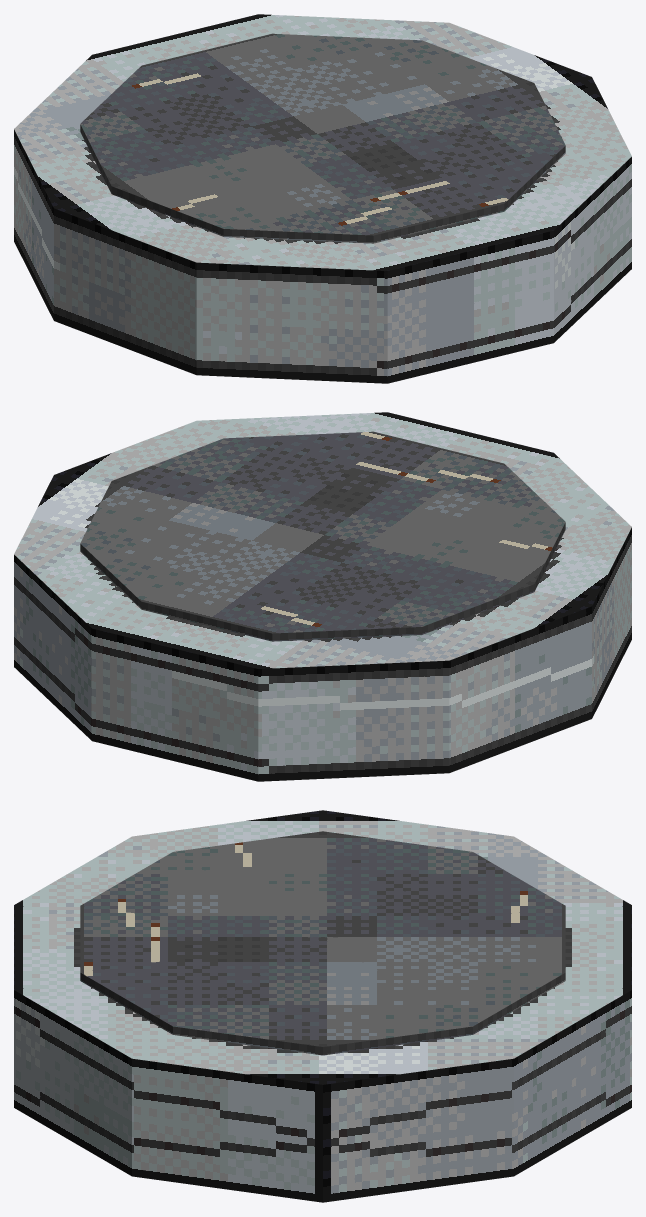
File: SM_Ashtray_01.glb
The picture shows the model from 3 angles, top to bottom: view 1: azimuth 30°, elevation 25°; view 2: azimuth 150°, elevation 25°; view 3: azimuth 270°, elevation 25°; orthographic projection. The views are drawn at different scales.
Visible parts, largest first — view 1: SM_Ashtray_01; view 2: SM_Ashtray_01; view 3: SM_Ashtray_01.
Boxes of the visible parts, x1=… form: SM_Ashtray_01: x1=14, y1=14, x2=631, y2=383; SM_Ashtray_01: x1=14, y1=412, x2=631, y2=781; SM_Ashtray_01: x1=14, y1=810, x2=631, y2=1202.
Bounding box in the file's own units: 0.14 × 0.03 × 0.1331.
Materials: 1 (1 with a texture image).
